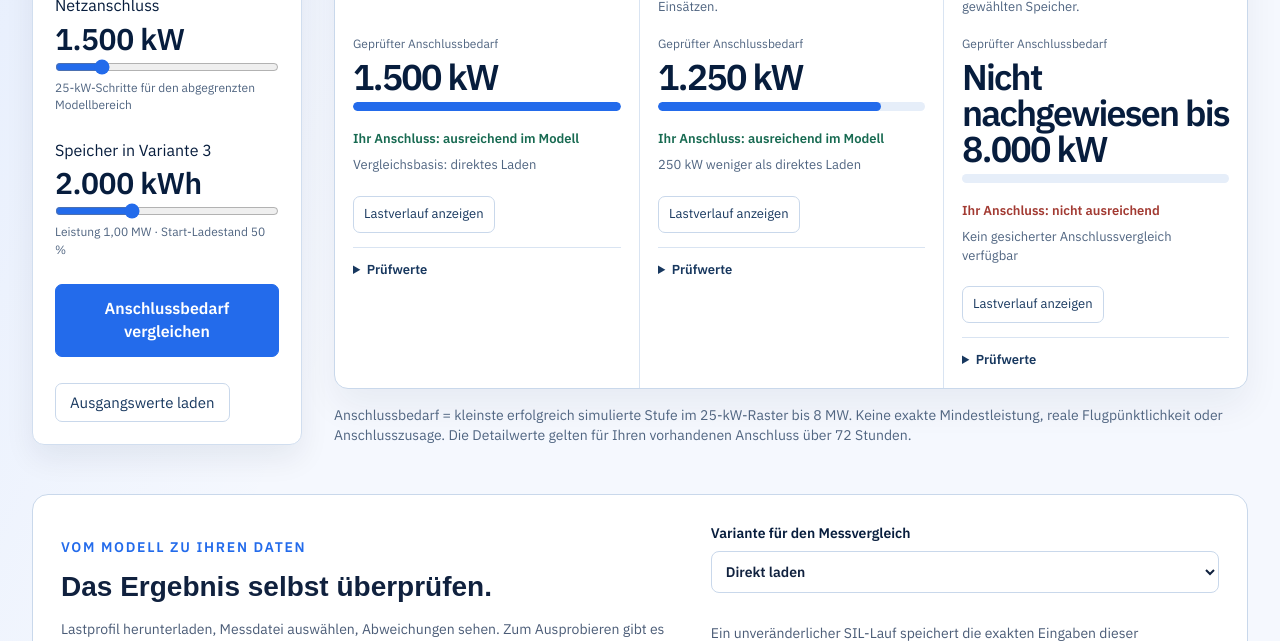
Test: never presents a failed capacity search as a working solution
The width and height of the screenshot is (1280, 641).
(page scrolled)
Expected: the text "Nicht nachgewiesen bis 8.000 kW" is shown, [962, 59, 1229, 167]
Click the heading "Prüfwerte" below "Ihr Anschluss: nicht ausreichend": [1006, 360] box [976, 351, 1036, 368]
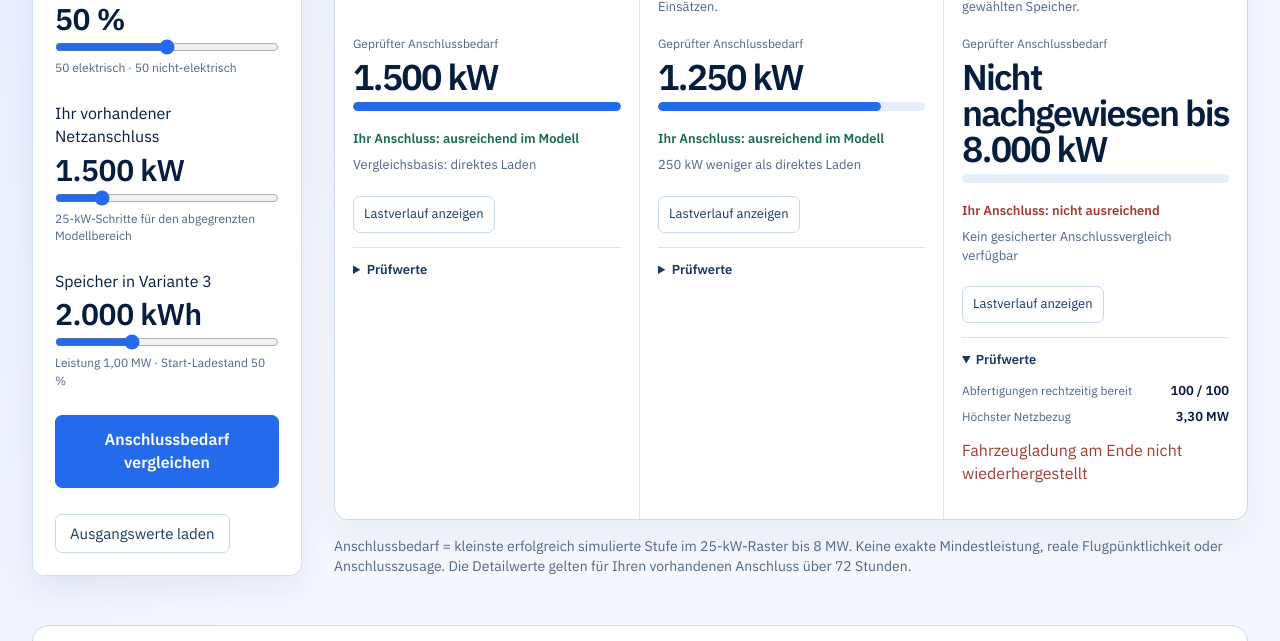
Expected: the text "Fahrzeugladung am Ende nicht wiederhergestellt" is shown, [962, 440, 1182, 483]
